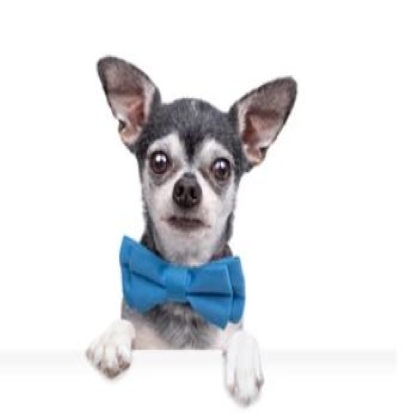chihuahua: (90, 52, 299, 405)
